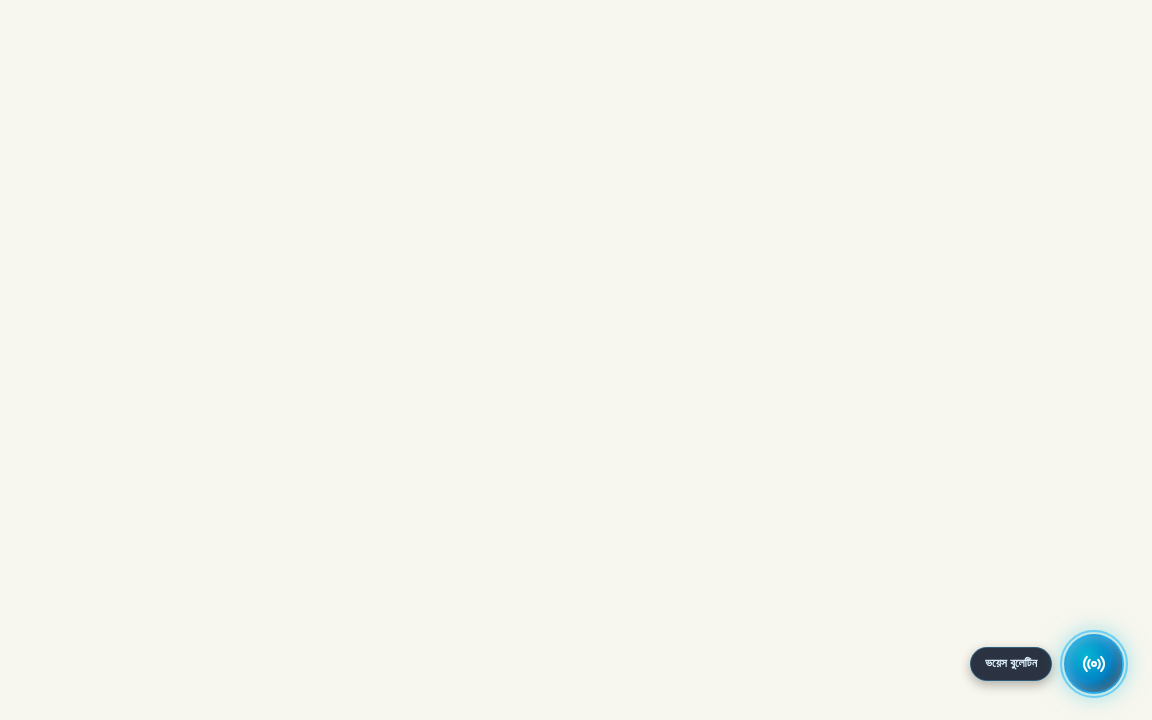
Test: VoiceNotificationOrb Component & Futuristic HUD › allows switching categories and updates spoken text without overlap
Click the button named "ভয়েস নোটিফিকেশন শুনুন": click(1094, 664) [1064,634,1124,694]
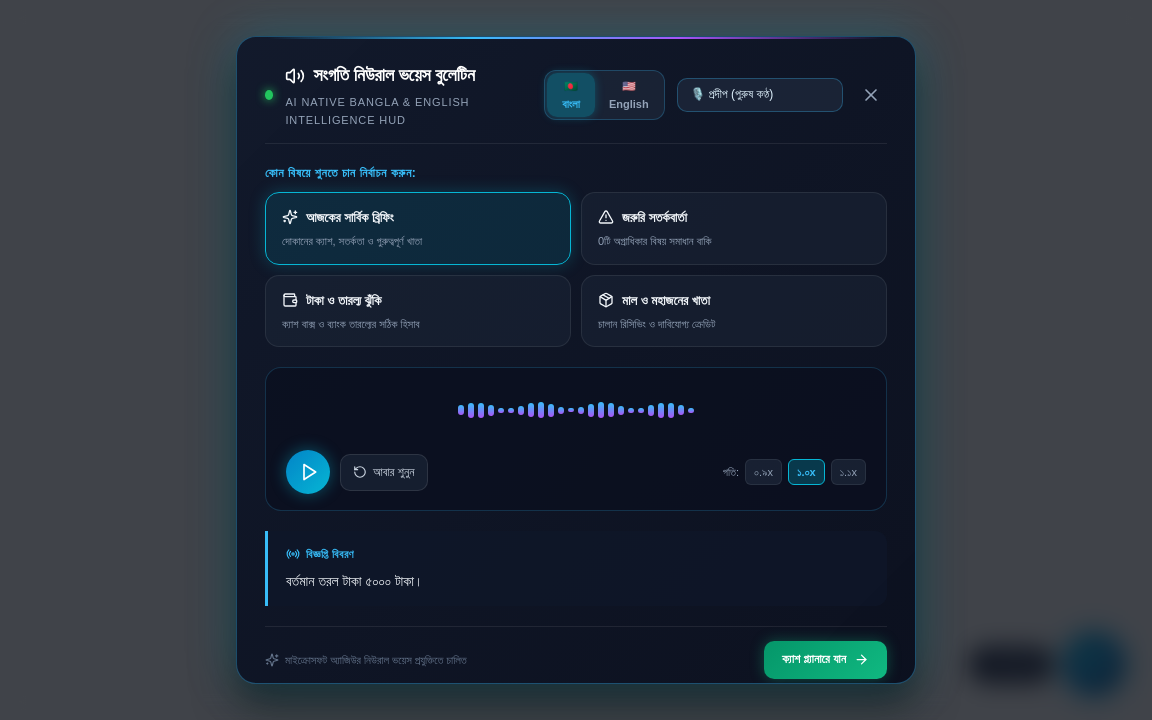
// Click "টাকা ও তারল্য ঝুঁকি"
Click the text "টাকা ও তারল্য ঝুঁকি": click(344, 300) [306,290,382,311]
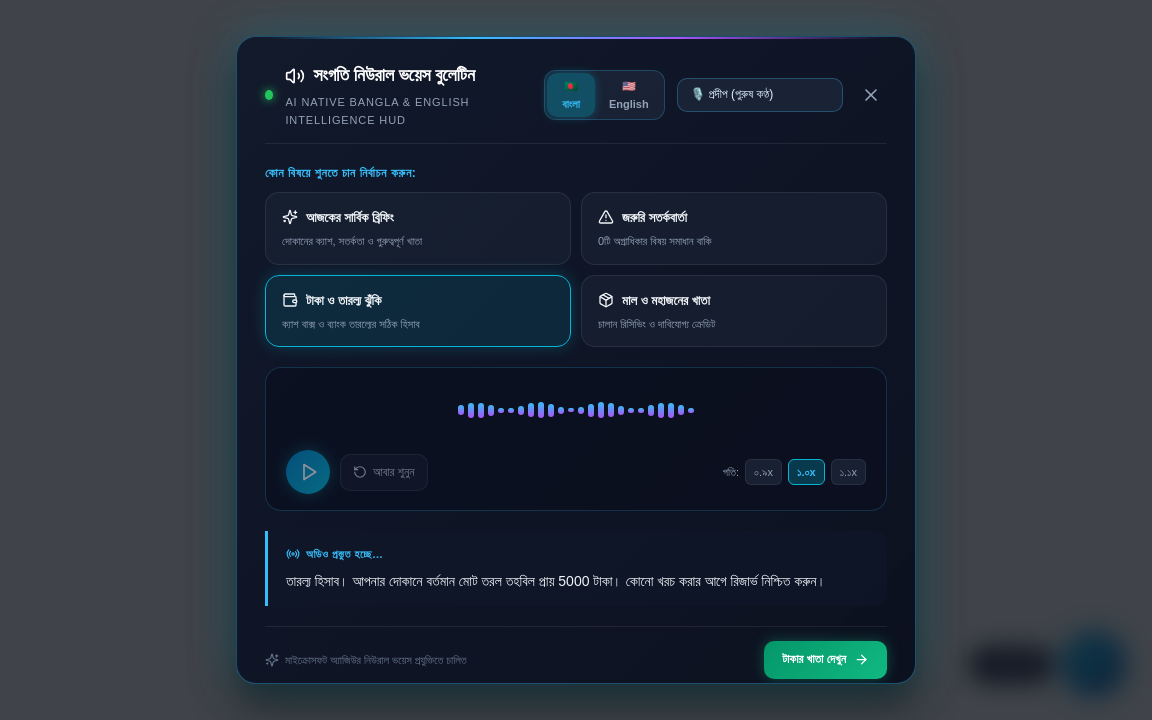
// Close modal
Click the button named "বন্ধ করুন": click(871, 95) [855,79,887,111]
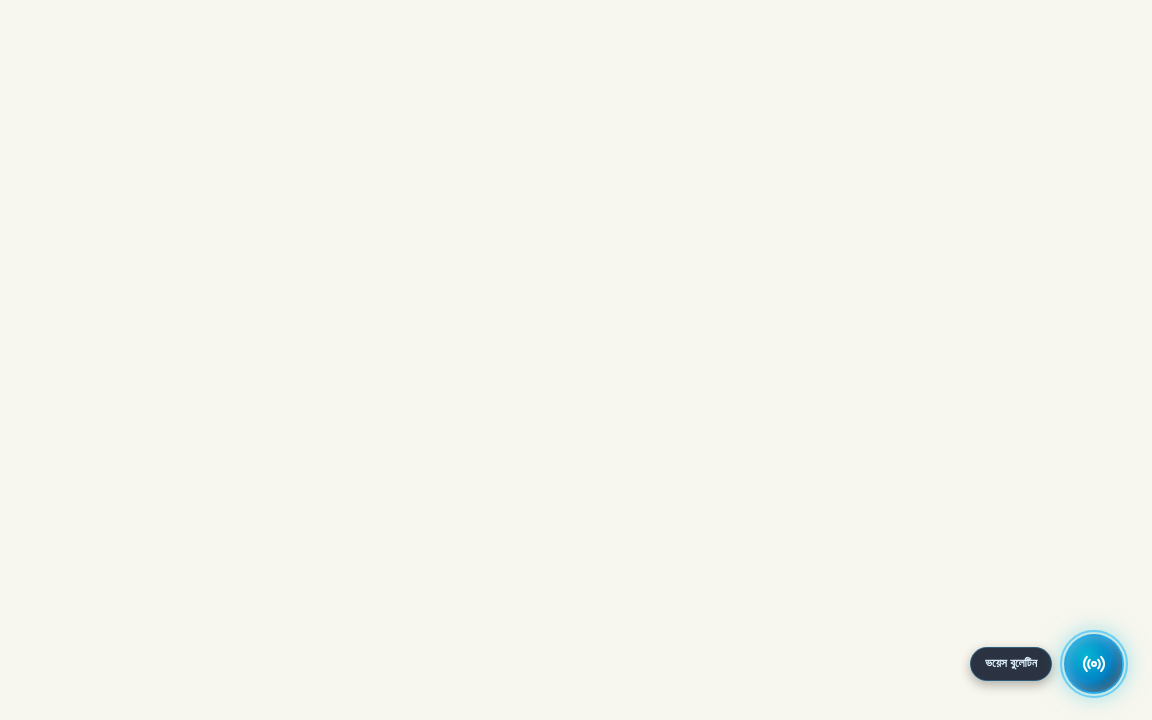
Expected: the dialog is gone
